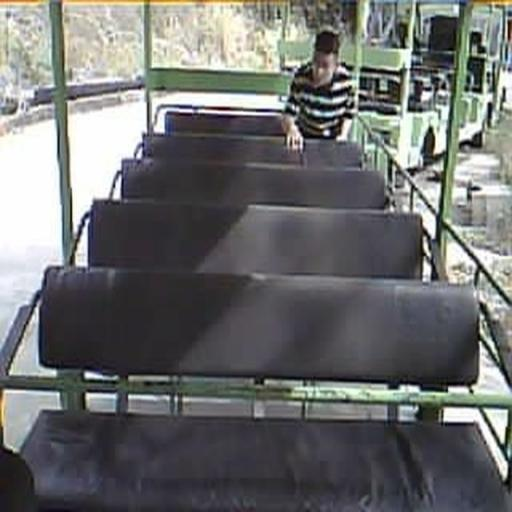persona: (280, 28, 360, 151)
